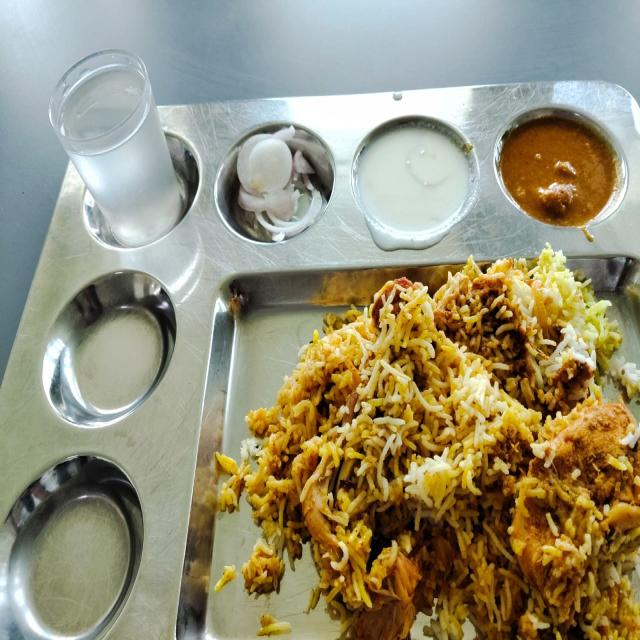Chicken dum biryani: (241, 275, 637, 640)
Lemon water: (47, 38, 192, 242)
Onions: (220, 122, 329, 258)
Raita: (353, 124, 480, 256)
Vankaya curry: (498, 108, 624, 255)
